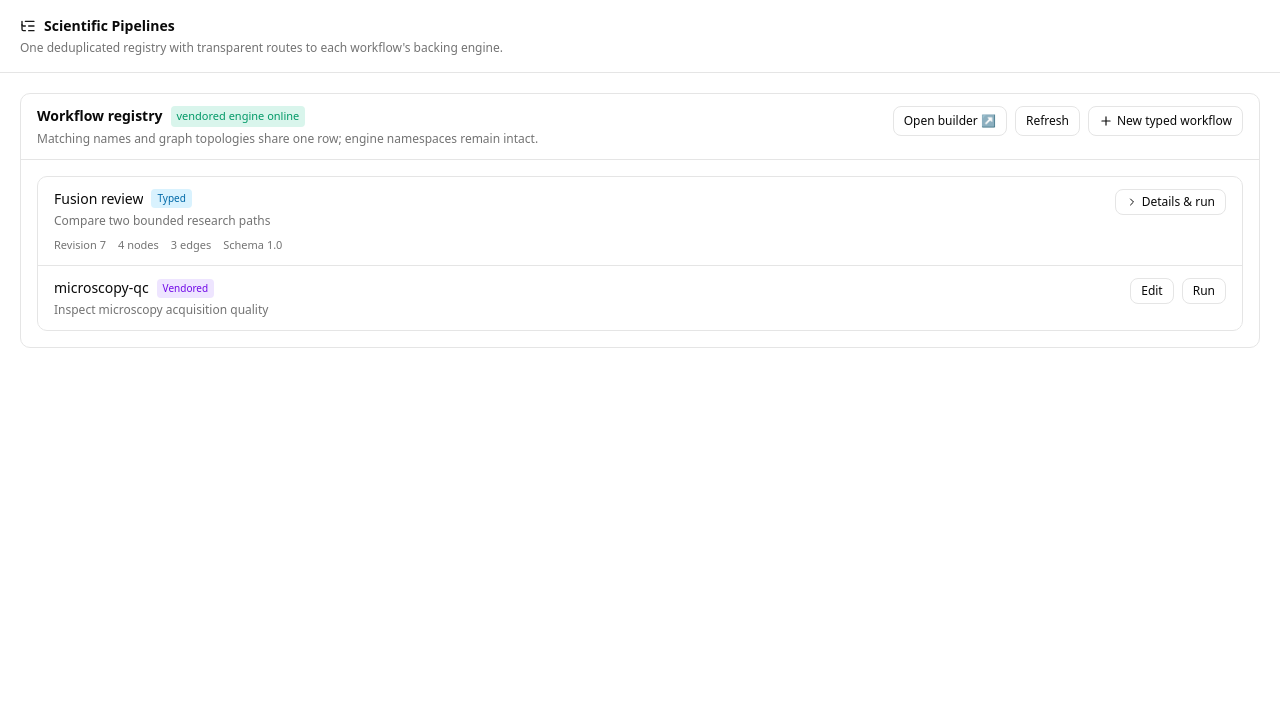
DagWorkflowsPanel › renders one registry list with both engines and all backing actions
Check: the heading "Scientific Pipelines" is shown, box [44,16,175,36]
Check: the text "microscopy-qc" is shown, box [54,278,149,298]
Click the button with aria-label "Edit microscopy-qc with vendored engine".
click(1152, 291)  # box [1130,278,1174,304]
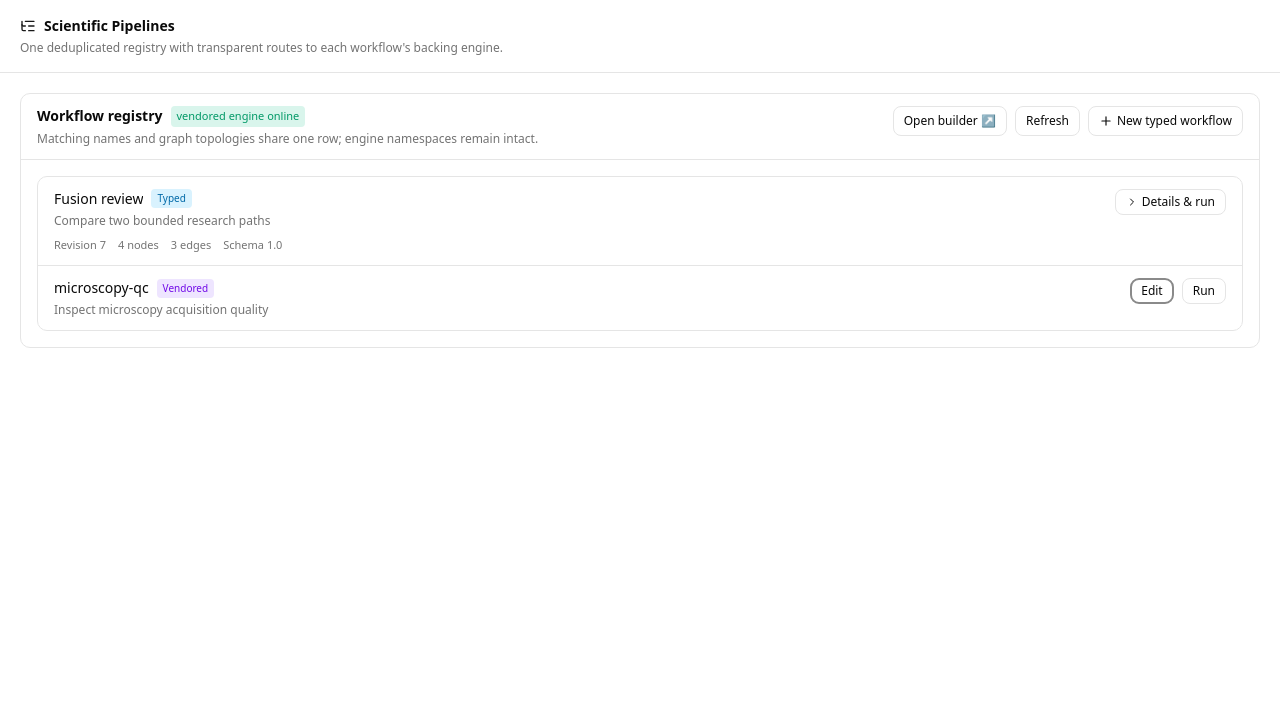
Click the button with aria-label "Run microscopy-qc with vendored engine".
click(1204, 291)  # box [1182,278,1226,304]
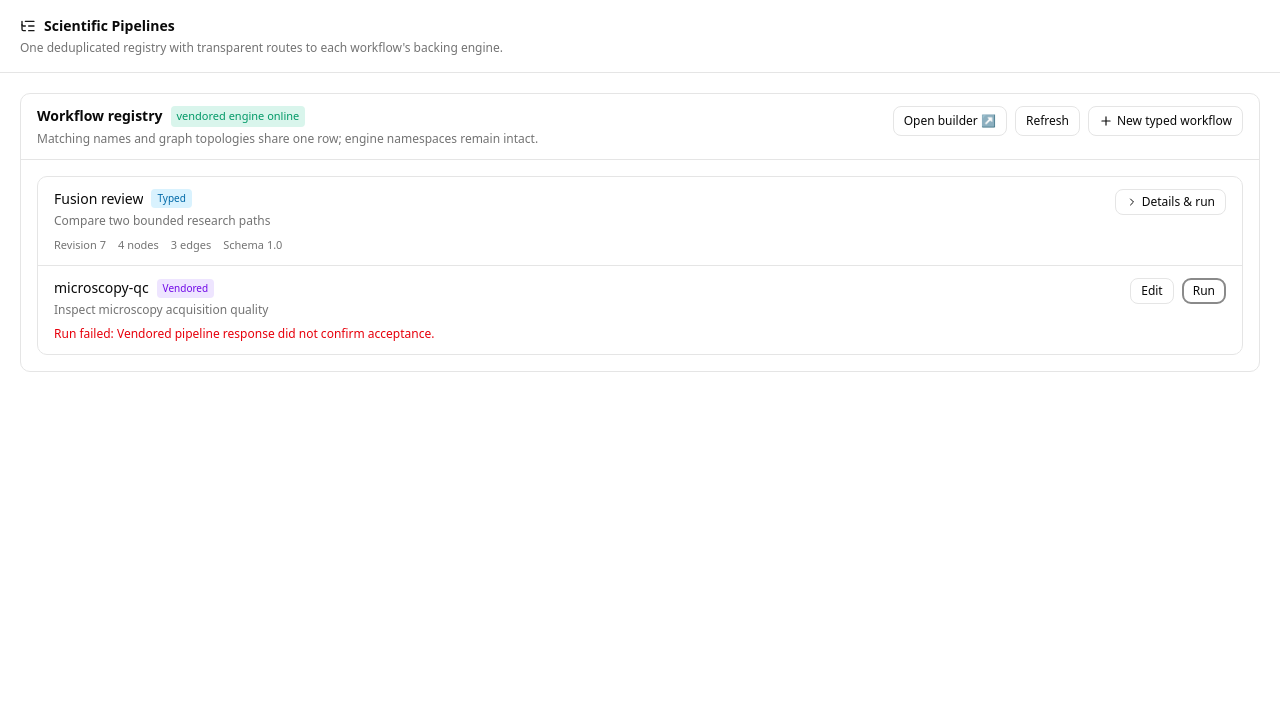
Click the button with aria-label "Open Fusion review details".
click(1170, 202)  # box [1115,188,1226,214]
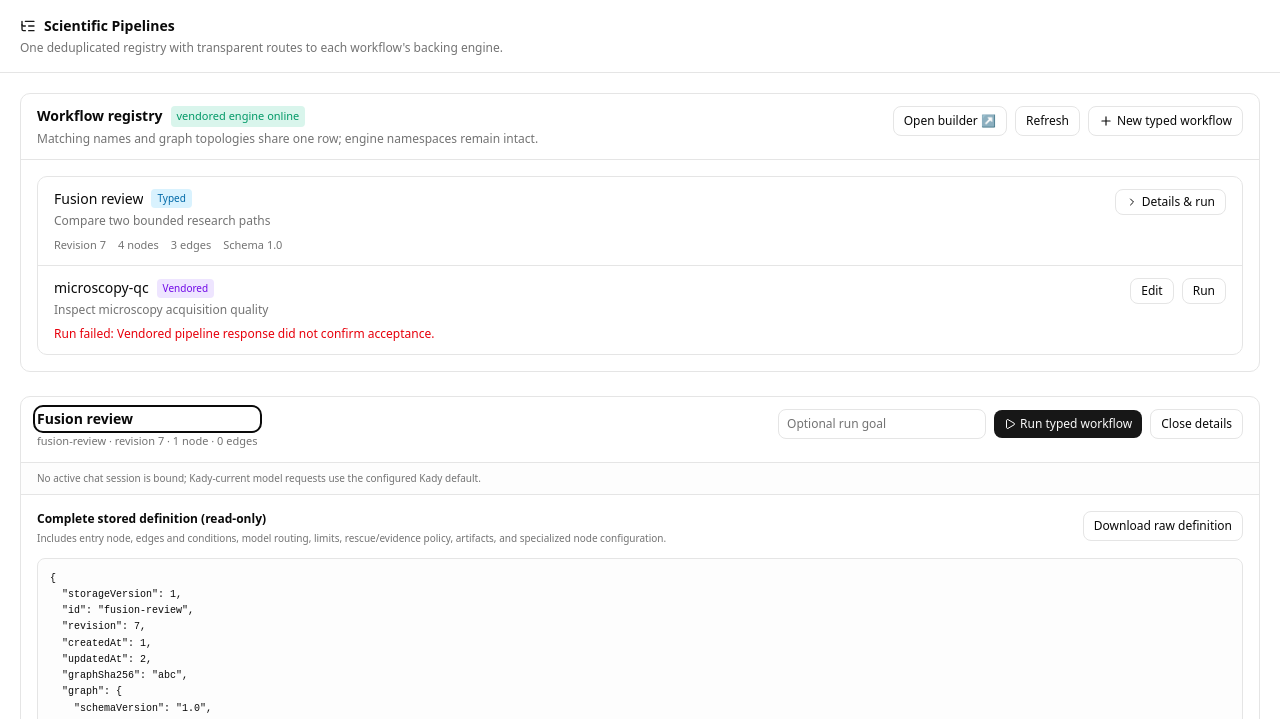
Check: the heading "Fusion review" is shown, box [37,409,133,428]
Check: the button "Download raw definition" is shown, box [1083,510,1243,540]
